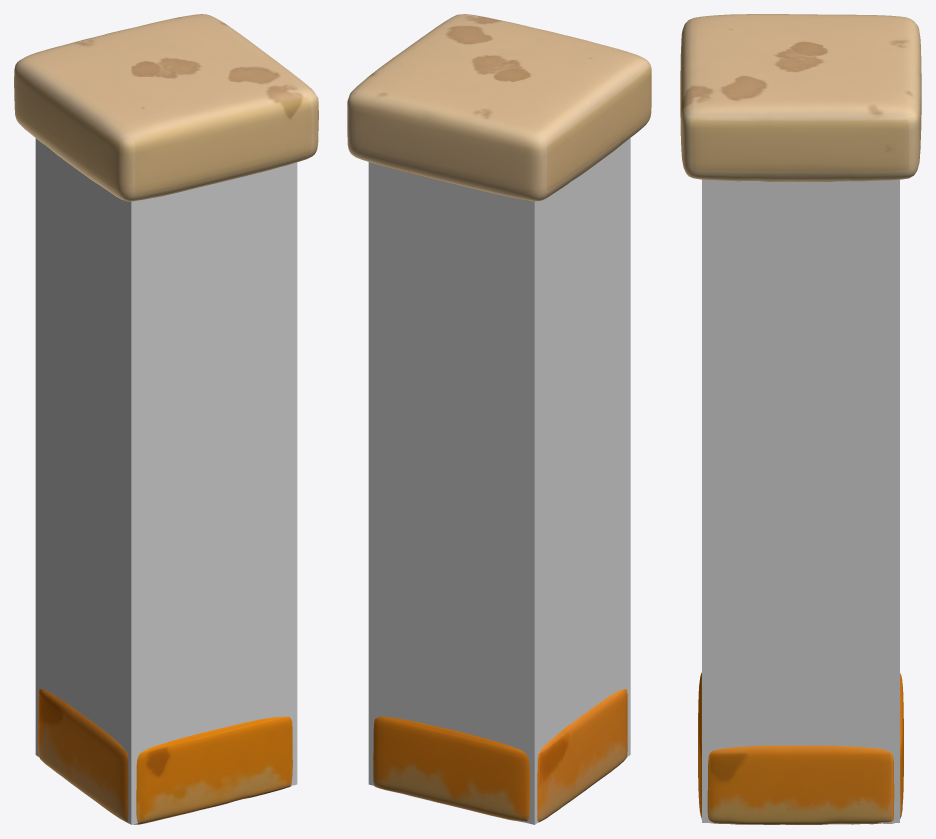
Rendered from 17Pillar.fbx.
3 renders of one model, left to right at view 1: azimuth 30°, elevation 25°; view 2: azimuth 150°, elevation 25°; view 3: azimuth 270°, elevation 25°, orthographic. The views are drawn at different scales.
Visible parts, largest first — view 1: ShedPillar_C, ShedPillar; view 2: ShedPillar_C, ShedPillar; view 3: ShedPillar_C, ShedPillar.
Part boxes in pixels (x1,y1,x2,y2): ShedPillar_C: (35, 138, 297, 824); ShedPillar: (14, 14, 318, 824); ShedPillar_C: (368, 138, 630, 824); ShedPillar: (347, 14, 651, 822); ShedPillar_C: (702, 179, 899, 822); ShedPillar: (680, 14, 921, 824).
Size of the model in its own units: 57.46 by 191 by 57.42.
1 material, 1 textured.
